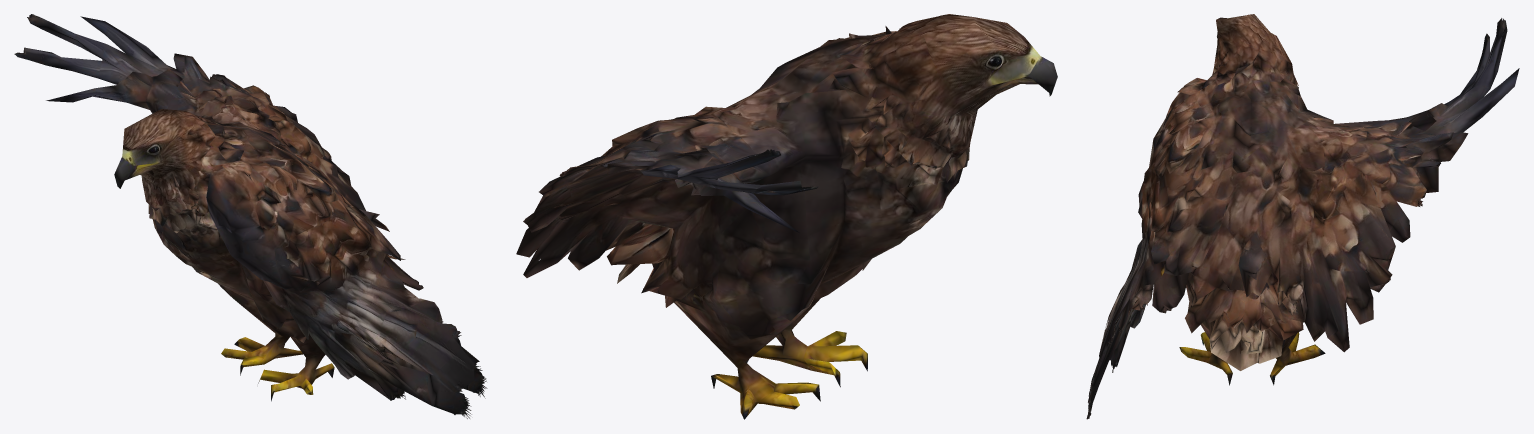
The model's file is hawk.glb.
3 renders of one model, left to right at view 1: azimuth 30°, elevation 25°; view 2: azimuth 150°, elevation 25°; view 3: azimuth 270°, elevation 25°, orthographic. The views are drawn at different scales.
Visible parts, largest first — view 1: hawk; view 2: hawk; view 3: hawk.
Boxes of the visible parts, x1,y1,x2,y2 form: hawk: [14, 14, 487, 418]; hawk: [516, 14, 1057, 419]; hawk: [1086, 14, 1519, 419].
Bounding box in the file's own units: 0.8064 × 0.7276 × 0.971.
1 material, 1 textured.
